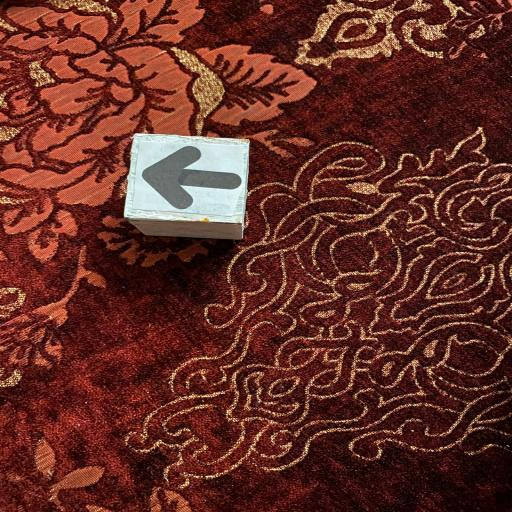Back: (128, 130, 252, 244)
